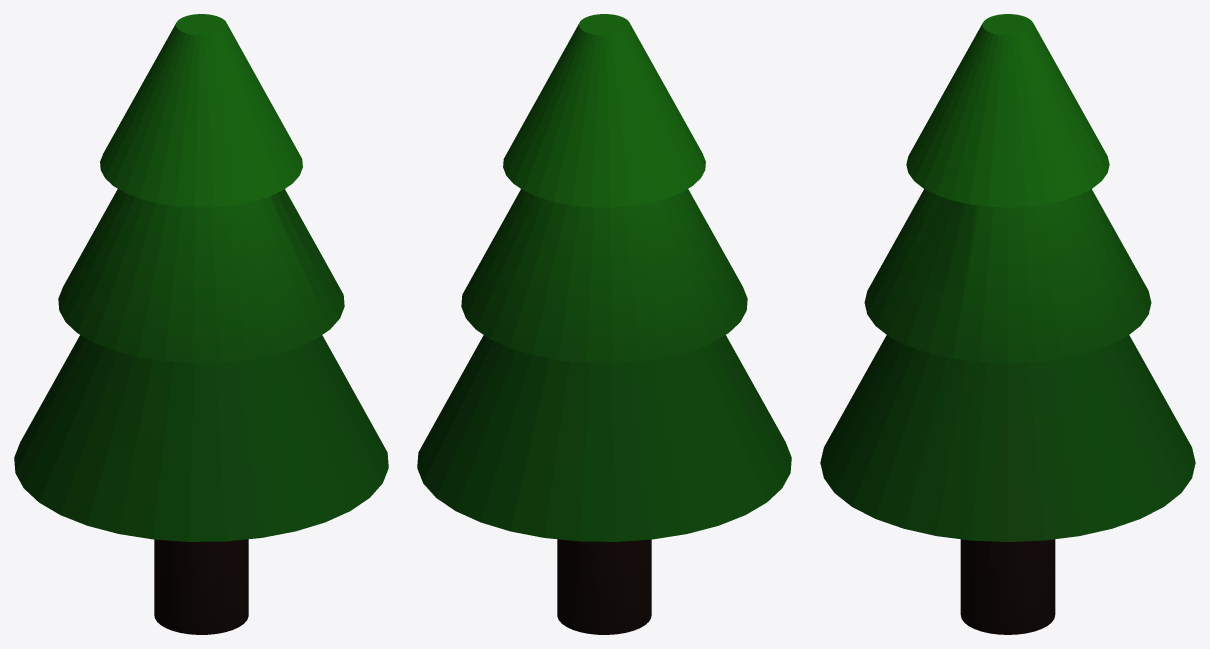
Rendered from treeplaceholder.fbx.
3 renders of one model, left to right at view 1: azimuth 30°, elevation 25°; view 2: azimuth 150°, elevation 25°; view 3: azimuth 270°, elevation 25°, orthographic.
Parts seen in each view (by area): view 1: Cylinder.002; view 2: Cylinder.002; view 3: Cylinder.002.
Boxes of the visible parts, x1,y1,x2,y2 form: Cylinder.002: [14, 14, 388, 634]; Cylinder.002: [417, 14, 791, 634]; Cylinder.002: [820, 14, 1195, 634].
Bounding box in the file's own units: 259 × 449 × 259.
